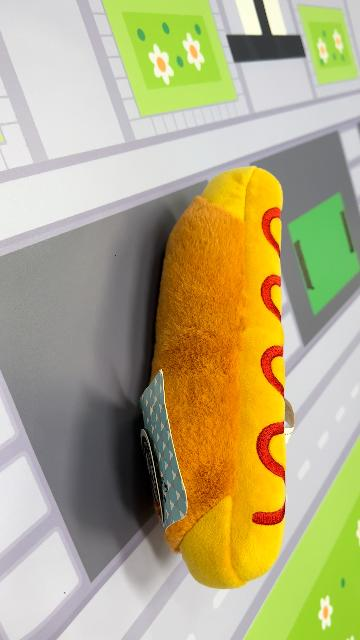hotdog: (139, 165, 289, 591)
